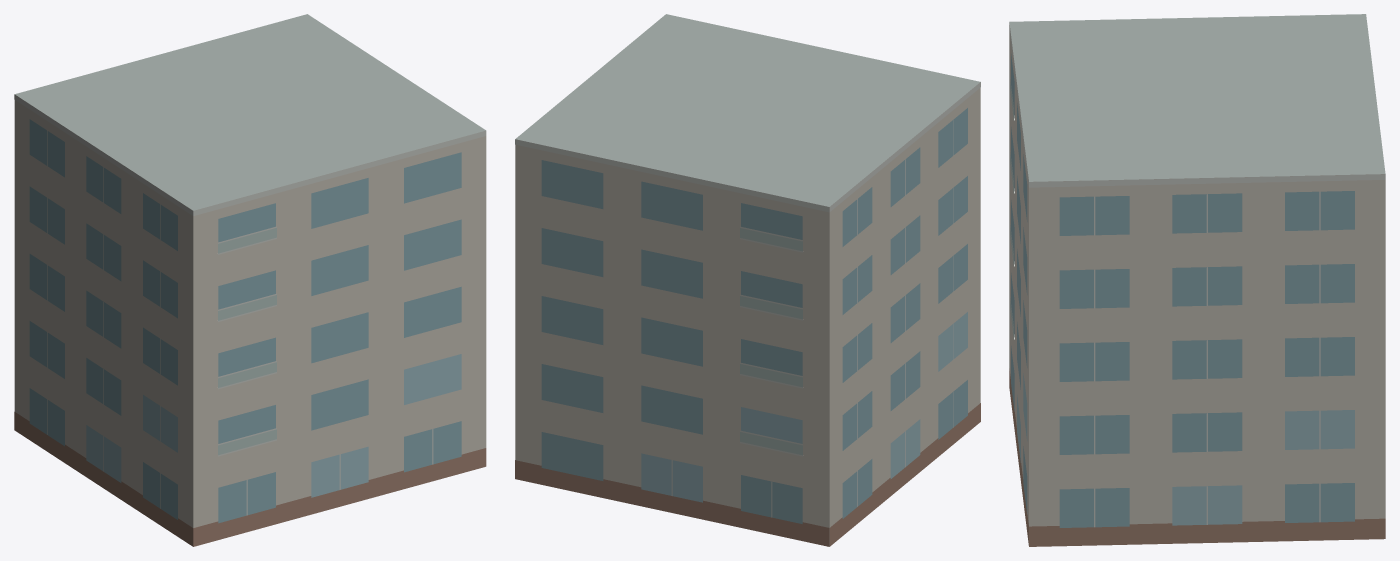
The model's file is survey-upis-32758103.glb.
3 views of the same model, side by side, from view 1: azimuth 30°, elevation 25°; view 2: azimuth 150°, elevation 25°; view 3: azimuth 270°, elevation 25° (orthographic). The views are drawn at different scales.
Parts seen in each view (by area): view 1: survey-upis-32758103.tmp; view 2: survey-upis-32758103.tmp; view 3: survey-upis-32758103.tmp.
Part boxes in pixels (left/top/right/bottom): survey-upis-32758103.tmp: left=14, top=14, right=486, bottom=546; survey-upis-32758103.tmp: left=515, top=14, right=980, bottom=546; survey-upis-32758103.tmp: left=1009, top=14, right=1385, bottom=546.
Size of the model in its own units: 15.05 by 15.25 by 14.26.
